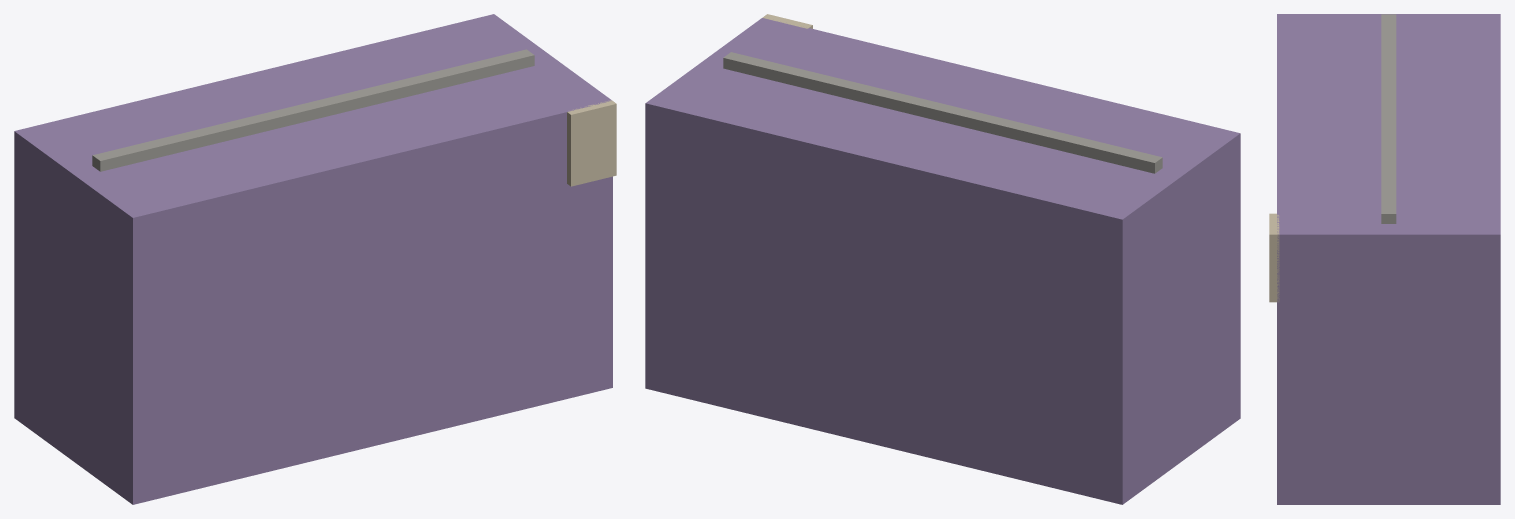
Rendered from makeup-bag.glb.
The picture shows the model from 3 angles, left to right: view 1: azimuth 30°, elevation 25°; view 2: azimuth 150°, elevation 25°; view 3: azimuth 270°, elevation 25°; orthographic projection. The views are drawn at different scales.
Visible parts, largest first — view 1: accent-lilac, brushed, paper; view 2: accent-lilac, brushed; view 3: accent-lilac, brushed, paper.
Boxes of the visible parts, x1,y1,x2,y2 form: accent-lilac: [14, 14, 612, 504]; brushed: [92, 49, 534, 171]; paper: [567, 100, 616, 186]; accent-lilac: [645, 18, 1240, 504]; brushed: [723, 52, 1162, 173]; accent-lilac: [1277, 14, 1500, 504]; brushed: [1381, 14, 1396, 223]; paper: [1269, 213, 1279, 302].
Size of the model in its own units: 0.21 by 0.1245 by 0.093.
